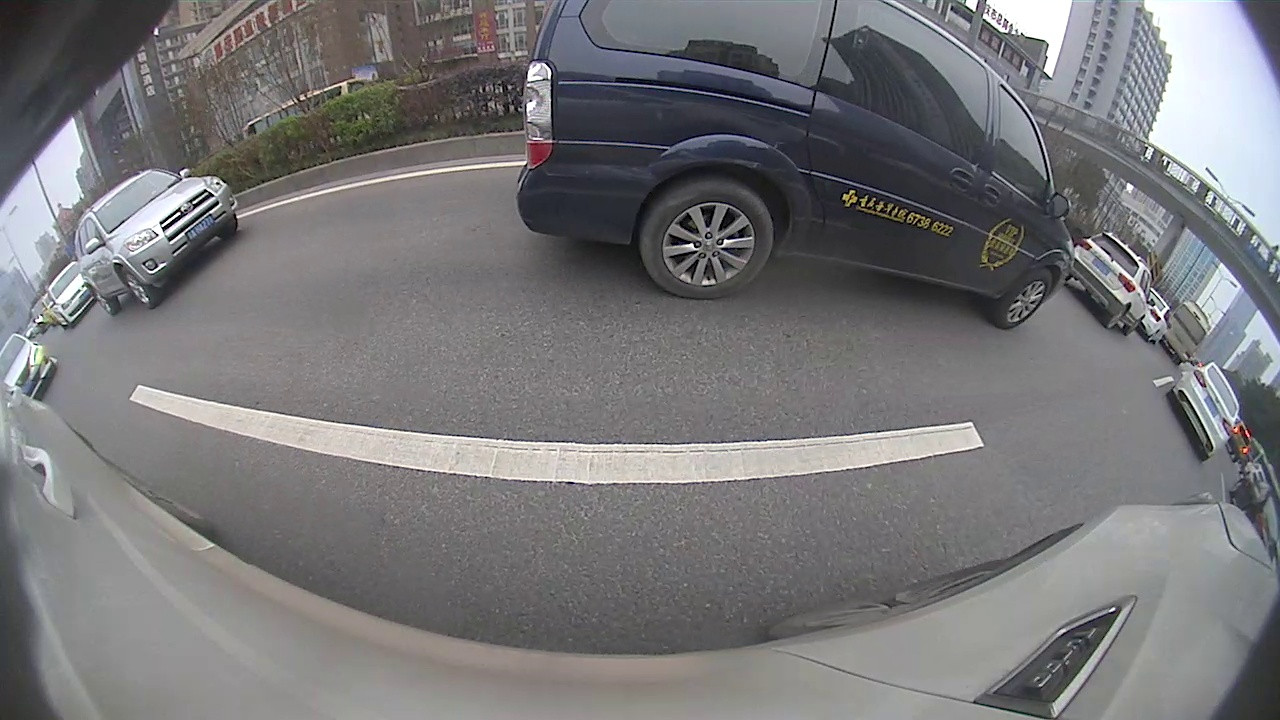car: (514, 2, 1077, 331), (72, 167, 241, 317), (1068, 233, 1153, 339), (1163, 358, 1242, 462)
front: (994, 269, 1054, 330), (115, 266, 158, 310)
rear: (638, 180, 776, 298)
